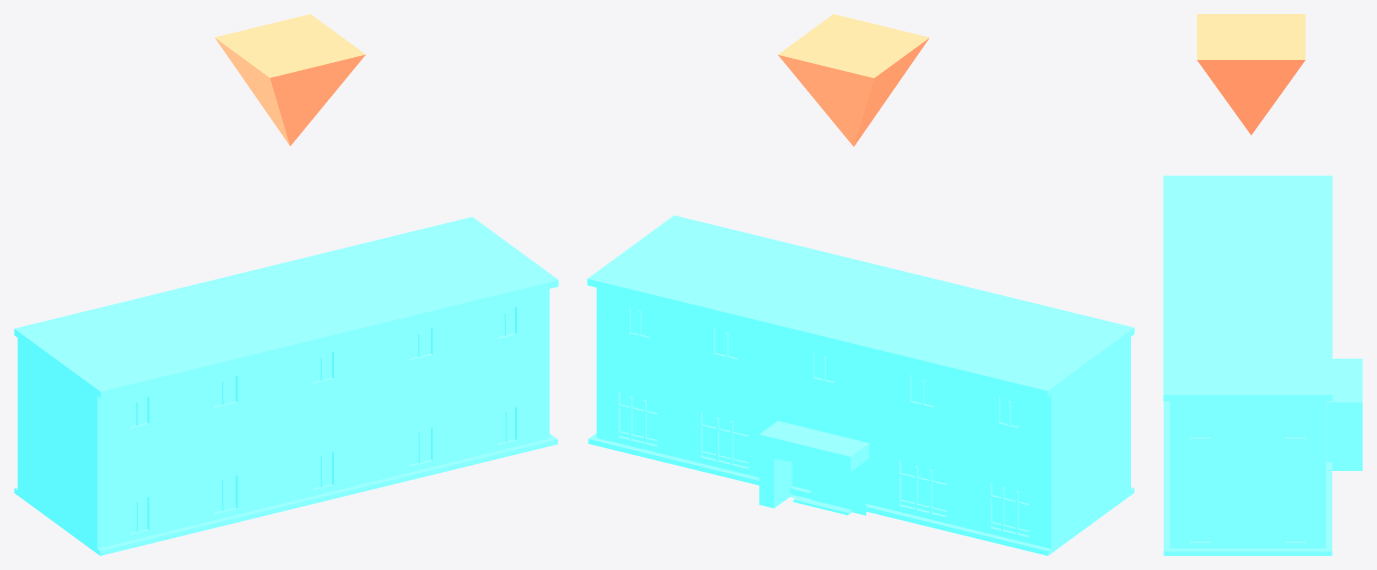
The model's file is build19.gltf.
3 views of the same model, side by side, from view 1: azimuth 30°, elevation 25°; view 2: azimuth 150°, elevation 25°; view 3: azimuth 270°, elevation 25° (orthographic). The views are drawn at different scales.
Visible parts, largest first — view 1: subject, fire-mark; view 2: subject, fire-mark; view 3: subject, fire-mark.
Part boxes in pixels (bbox=[...]): subject: bbox=[14, 217, 558, 555]; fire-mark: bbox=[214, 14, 365, 146]; subject: bbox=[587, 215, 1134, 555]; fire-mark: bbox=[778, 14, 929, 146]; subject: bbox=[1163, 175, 1362, 555]; fire-mark: bbox=[1197, 14, 1305, 135].
Size of the model in its own units: 27.9 by 24.68 by 10.72.
